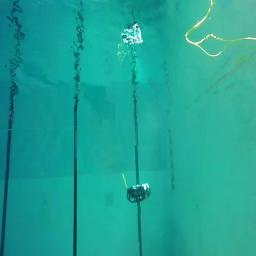Side: (126, 182, 151, 204)
